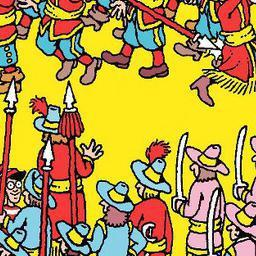waldo: (0, 161, 29, 221)
